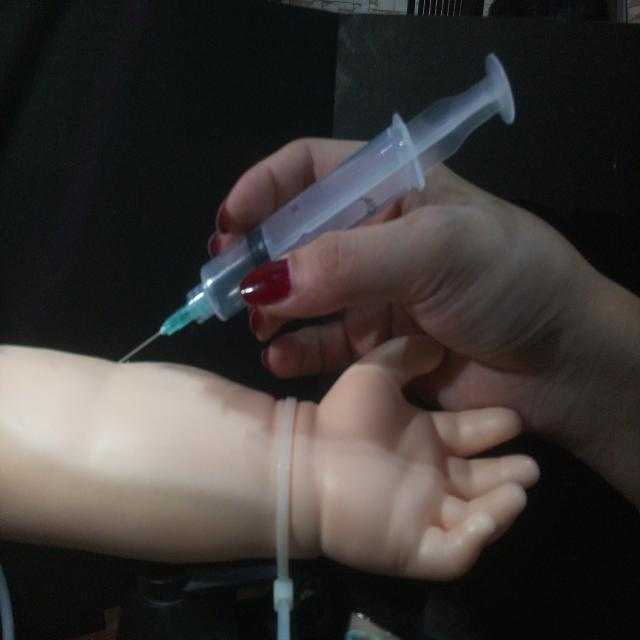30deg: (114, 49, 519, 366)
